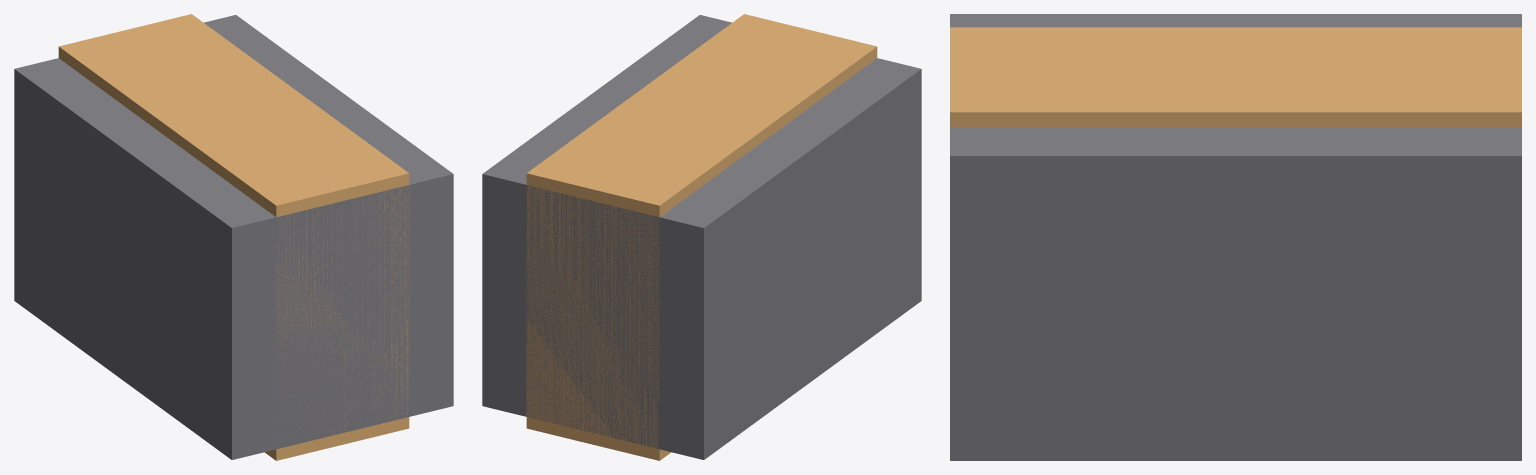
Rendered from cable_arm.glb.
3 views of the same model, side by side, from view 1: azimuth 30°, elevation 25°; view 2: azimuth 150°, elevation 25°; view 3: azimuth 270°, elevation 25° (orthographic). The views are drawn at different scales.
Size of the model in its own units: 0.2 by 0.22 by 0.34.
